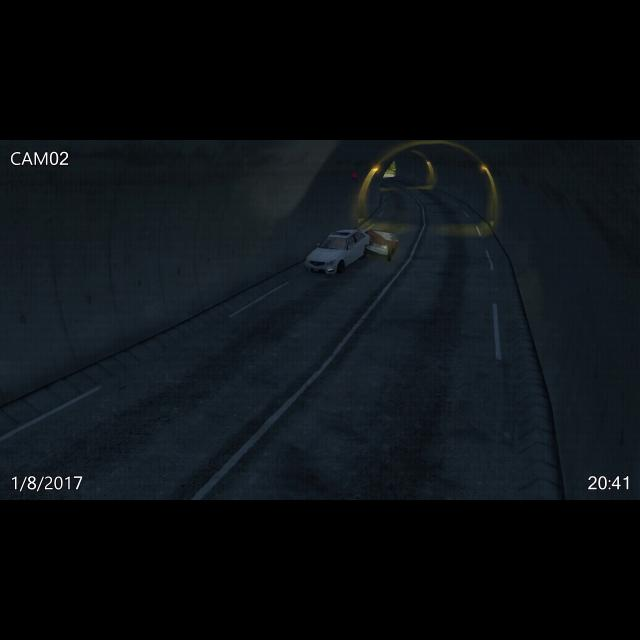accident: (302, 225, 401, 279)
